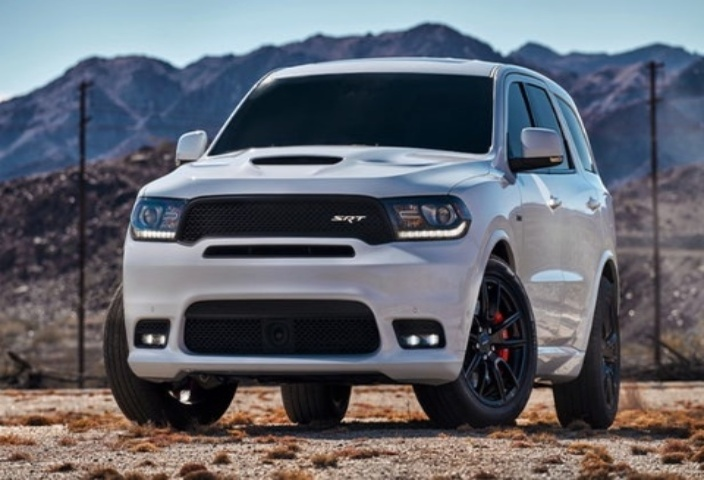camper: (73, 41, 643, 438)
